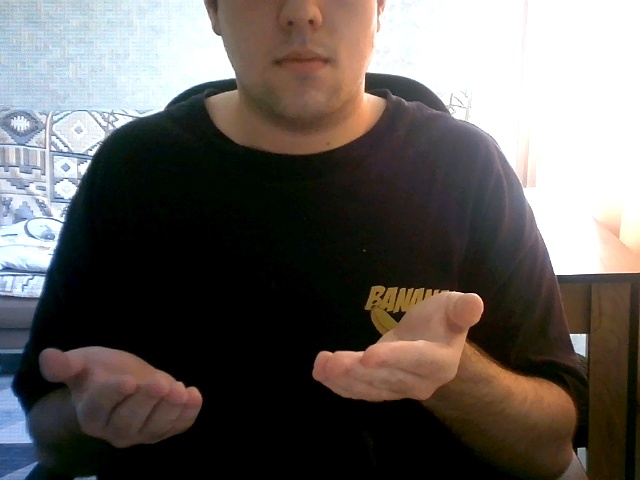hello: (31, 232, 512, 456)
